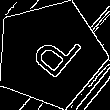P_SW: (19, 23, 81, 85)
